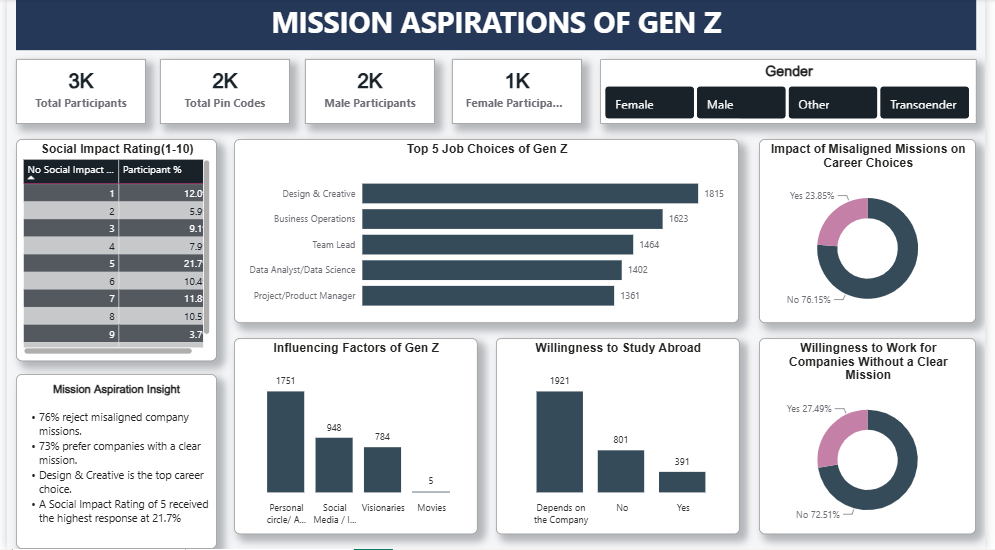

The dashboard page shown, as its layout file describes it:
{"tool":"powerbi","page":{"name":"MISSION ASPIRATIONS","canvas":[1280,720],"ordinal":1},"visuals":[{"type":"textbox","box":[11.4,0,1257.1,67.1],"z":0},{"type":"advancedSlicerVisual","fields":{"Values":["CareerData.Gender"]},"box":[775.7,78.6,492.9,85],"z":1000},{"type":"clusteredColumnChart","title":"Willingness to Study Abroad","fields":{"Y":["CareerData.Total Participants"],"Category":["CareerData.7 years or more in an Org"]},"box":[640,444.3,318.6,257.1],"z":2000},{"type":"tableEx","title":"Social Impact Rating(1-10)","fields":{"Values":["CareerData.No Social Impact Org","CareerData.Participant %"]},"box":[11.4,182.9,262.9,291.4],"z":3000},{"type":"donutChart","title":"Impact of Misaligned Missions on Career Choices","fields":{"Category":["CareerData.Misaligned Mission org"],"Y":["CareerData.Total Participants"]},"box":[984.3,182.9,284.3,241.4],"z":4000},{"type":"clusteredColumnChart","title":" Influencing Factors of Gen Z","fields":{"Y":["CareerData.Total Participants"],"Category":["CareerData. Influence Factors"]},"box":[297.1,444.3,318.6,257.1],"z":5000},{"type":"donutChart","title":"Willingness to Work for Companies Without a Clear Mission","fields":{"Category":["CareerData.Missionless Org"],"Y":["CareerData.Total Participants"]},"box":[984.3,444.3,284.3,257.1],"z":6000},{"type":"cardVisual","fields":{"Data":["CareerData.Total Participants"]},"box":[11.4,78.6,170,85],"z":7000},{"type":"cardVisual","fields":{"Data":["CareerData.Total Pin Codes"]},"box":[200,78.6,170,85],"z":8000},{"type":"cardVisual","fields":{"Data":["CareerData.Male Participants"]},"box":[390,78.6,170,85],"z":9000},{"type":"cardVisual","fields":{"Data":["CareerData.Female Participants"]},"box":[582.9,78.6,170,85],"z":10000},{"type":"clusteredBarChart","title":"Top 5 Job Choices of Gen Z","fields":{"Y":["CareerData.Total Participants"],"Category":["CareerData.Aspirational Job"]},"box":[297.1,182.9,661.4,241.4],"z":11000},{"type":"textbox","box":[11.4,491.4,262.9,228.6],"z":12000}]}

Visuals, with their boxes in screenshot pixels (x1, y1, x2, y2), scaled from the page's 1280x720 canvas onto the 995x550 screenshot:
textbox: 9,0,986,51
advancedSlicerVisual - CareerData.Gender: 603,60,986,125
"Willingness to Study Abroad" clusteredColumnChart: 498,339,745,536
"Social Impact Rating(1-10)" tableEx: 9,140,213,362
"Impact of Misaligned Missions on Career Choices" donutChart: 765,140,986,324
" Influencing Factors of Gen Z" clusteredColumnChart: 231,339,479,536
"Willingness to Work for Companies Without a Clear Mission" donutChart: 765,339,986,536
cardVisual - CareerData.Total Participants: 9,60,141,125
cardVisual - CareerData.Total Pin Codes: 155,60,288,125
cardVisual - CareerData.Male Participants: 303,60,435,125
cardVisual - CareerData.Female Participants: 453,60,585,125
"Top 5 Job Choices of Gen Z" clusteredBarChart: 231,140,745,324
textbox: 9,375,213,549
